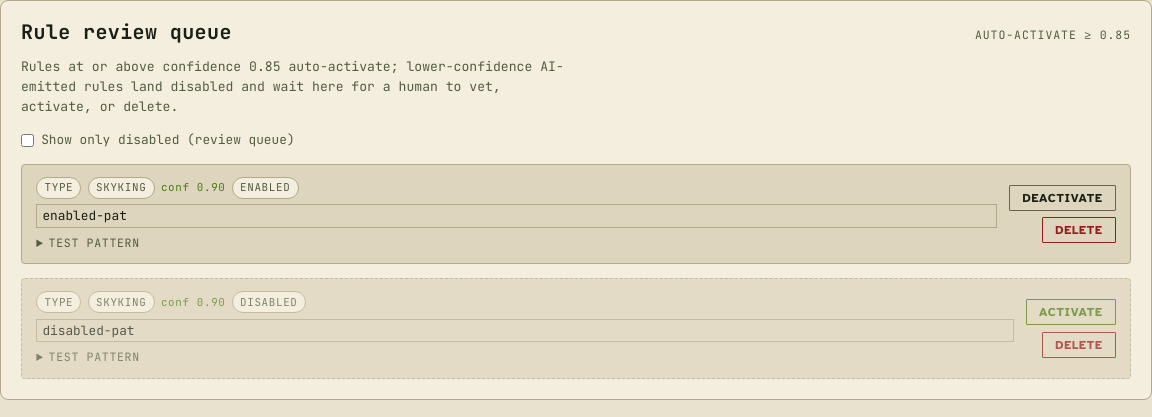
Test: LinguisticRulesQueue › the "only disabled" filter hides enabled rules
Expected: the list with test id "rule-list" is shown, [21,164,1131,379]
Step 1. Click the checkbox labelled "Show only disabled (review queue)" → [28, 140], box [21,134,34,146]
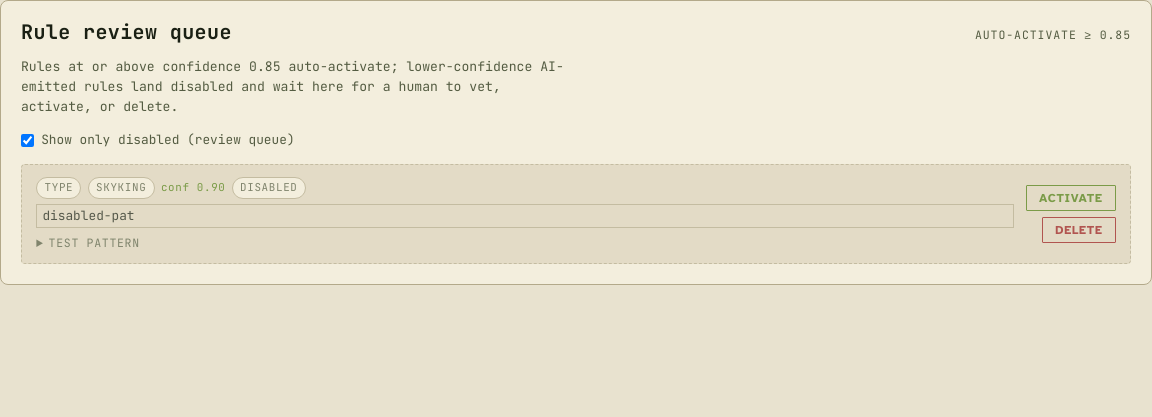
Expected: the text "disabled-pat" is shown, [36,204,1014,228]
Expected: the text "enabled-pat" is gone
